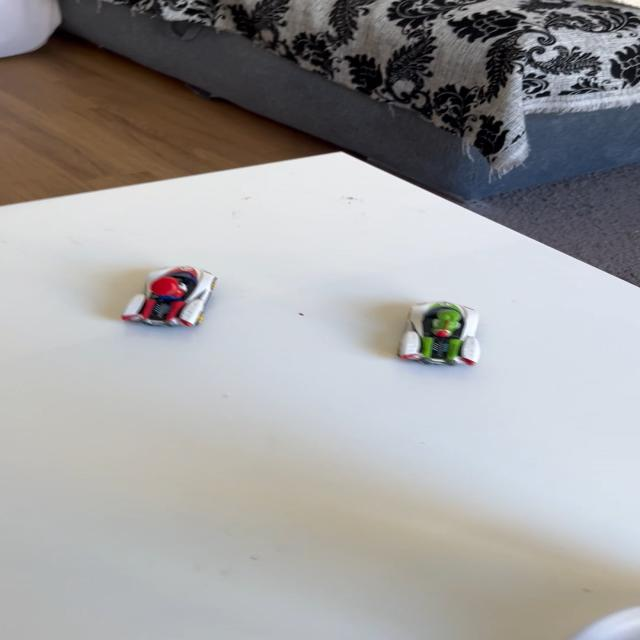mario: (98, 259, 230, 336)
yoshi: (381, 297, 491, 373)
